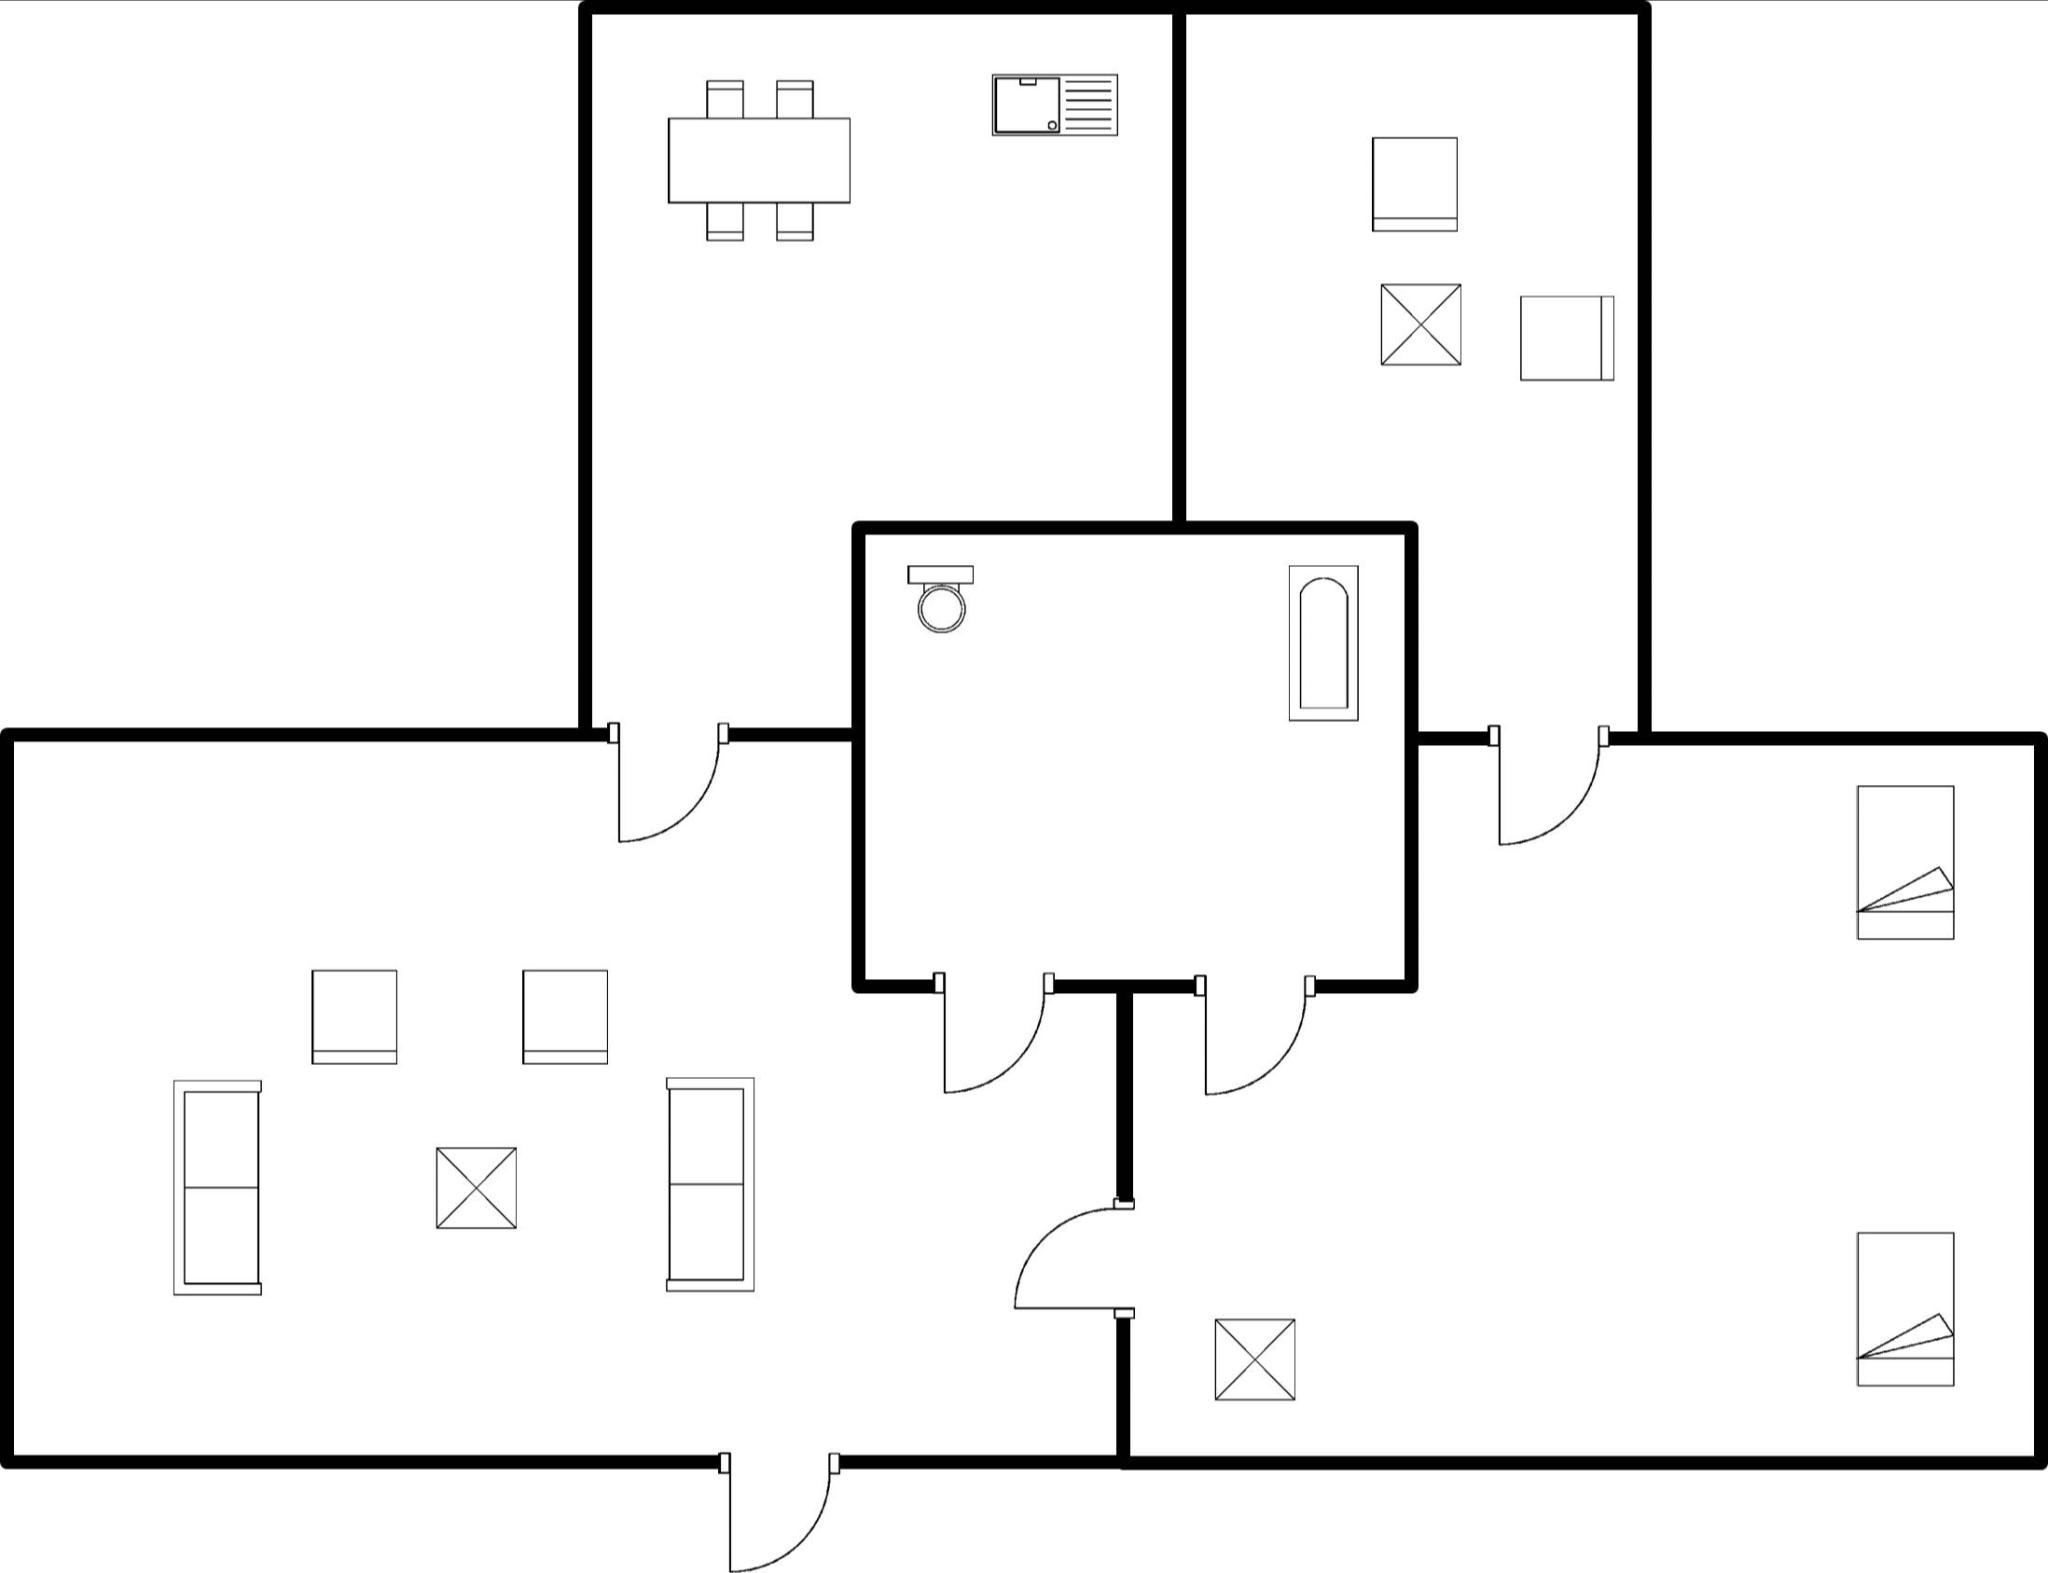bed: (1843, 773, 1969, 952), (1845, 1216, 1962, 1400)
dining_table: (649, 66, 857, 251)
sink: (983, 58, 1125, 154)
sofa: (160, 1064, 274, 1305), (654, 1064, 761, 1302)
toilet: (895, 554, 984, 644)
tub: (1277, 554, 1369, 732)
